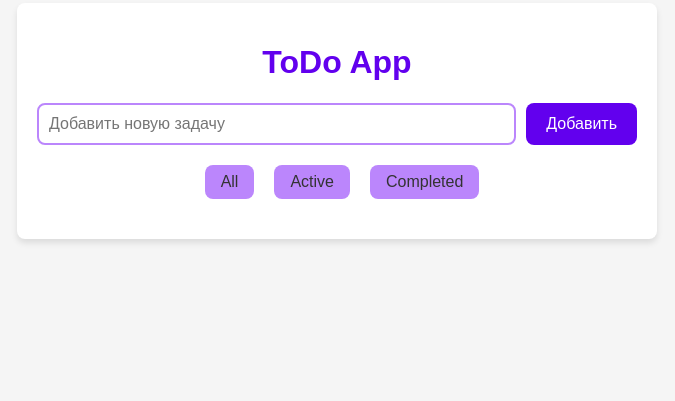
Test: App Component › очищает выполненные задачи
Type "Задача 1" into the field with placeholder "Добавить новую задачу" at coordinates (277, 124), box [37,103,516,145]
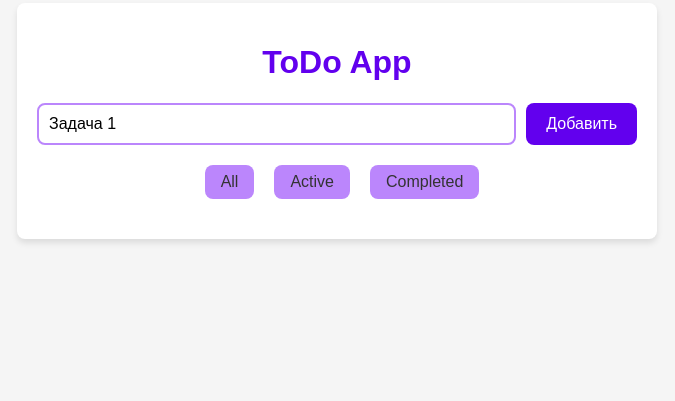
Click the button "Добавить" at coordinates (582, 124), box [526,103,637,145]
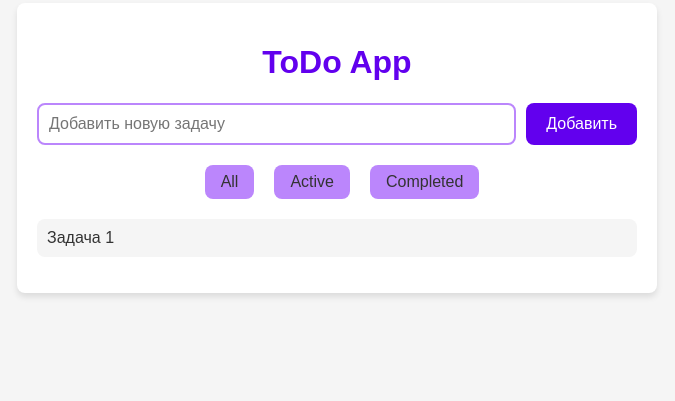
Type "Задача 2" into the field with placeholder "Добавить новую задачу" at coordinates (277, 124), box [37,103,516,145]
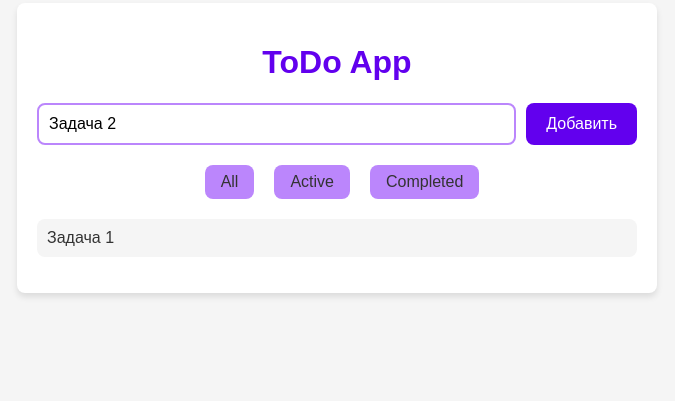
Click the button "Добавить" at coordinates (582, 124), box [526,103,637,145]
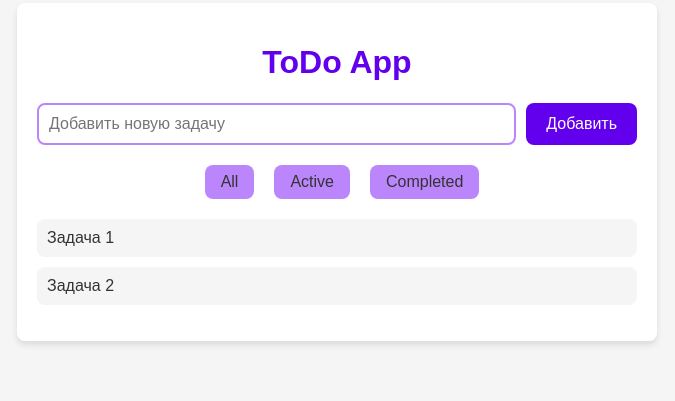
Click the list item "Задача 1" at coordinates (337, 238), box [37,219,637,257]
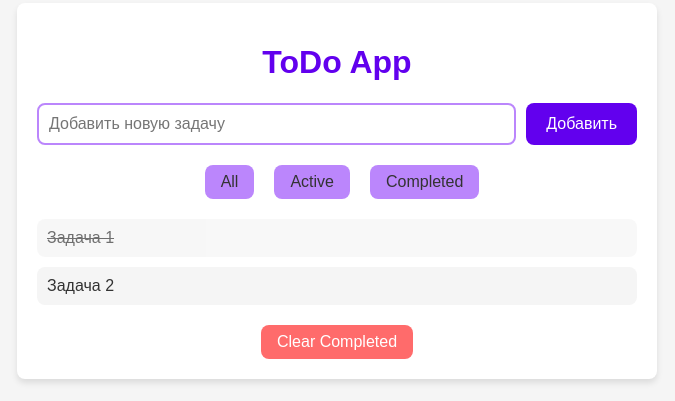
Click the button "Clear Completed" at coordinates (337, 342), box [261,325,413,359]
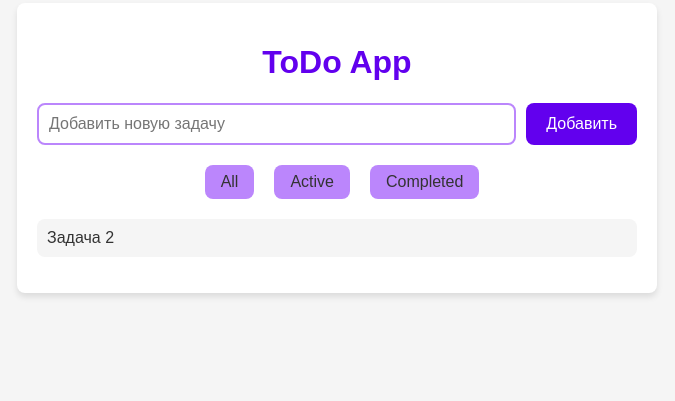
Now the list item "Задача 2" is shown, box [37,219,637,257]
Now the list item "Задача 1" is gone
